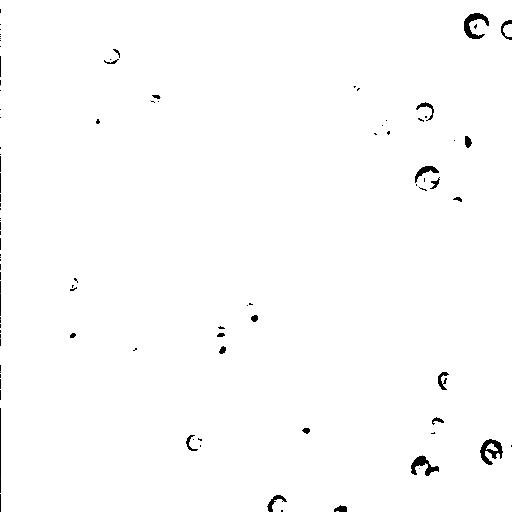micro-algae: (345, 38, 427, 114), (193, 274, 260, 339), (479, 425, 511, 509), (373, 11, 417, 59), (447, 120, 485, 165), (333, 129, 369, 167), (416, 456, 451, 489), (5, 264, 38, 296), (289, 415, 323, 445), (77, 104, 108, 135), (235, 301, 269, 329), (61, 325, 91, 356), (461, 10, 491, 41), (413, 162, 443, 193), (373, 117, 401, 145), (122, 339, 152, 365), (479, 437, 505, 467), (337, 70, 365, 95), (193, 39, 218, 66), (205, 337, 231, 362), (265, 492, 290, 512), (58, 273, 81, 294), (436, 371, 455, 393), (101, 46, 122, 65), (185, 433, 205, 452), (410, 455, 429, 475), (427, 415, 447, 433), (500, 18, 512, 41), (449, 195, 463, 211), (329, 503, 349, 512)
